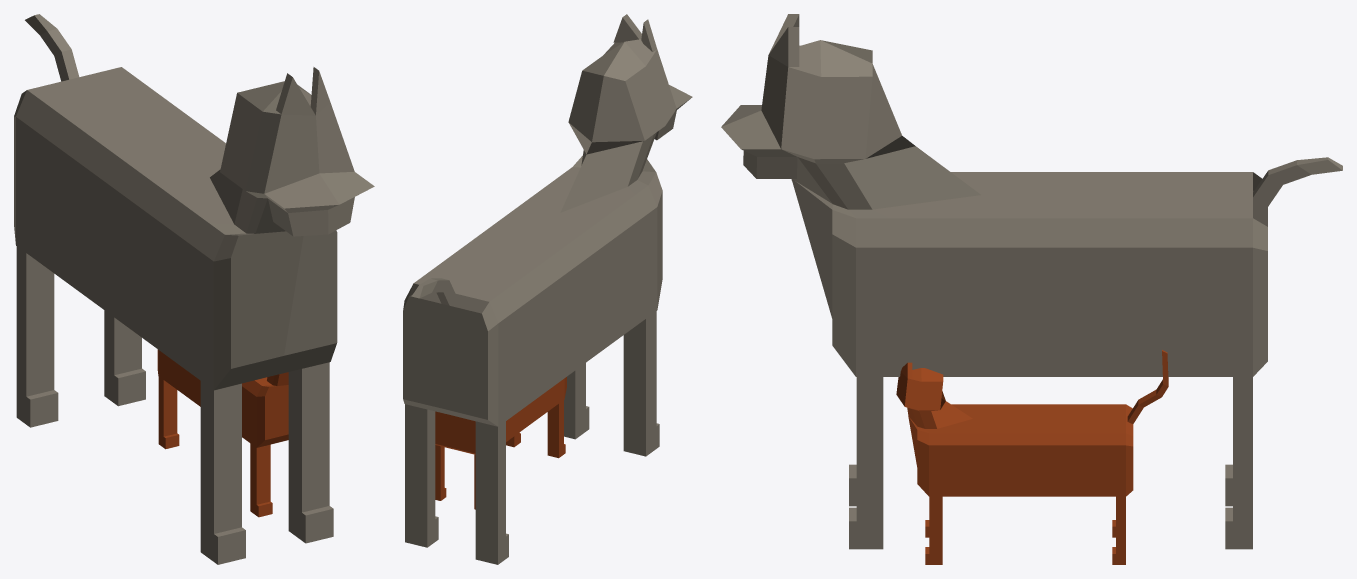
Rendered from pet.glb.
The picture shows the model from 3 angles, left to right: view 1: azimuth 30°, elevation 25°; view 2: azimuth 150°, elevation 25°; view 3: azimuth 270°, elevation 25°; orthographic projection. The views are drawn at different scales.
Visible parts, largest first — view 1: dog, cat; view 2: dog, cat; view 3: dog, cat.
Boxes of the visible parts, left/top/right/bottom form: dog: left=14, top=14, right=374, bottom=564; cat: left=157, top=349, right=288, bottom=517; dog: left=403, top=14, right=692, bottom=564; cat: left=435, top=377, right=566, bottom=509; dog: left=721, top=14, right=1342, bottom=549; cat: left=896, top=350, right=1168, bottom=564.
Bounding box in the file's own units: 0.3322 × 1.06 × 1.2.
